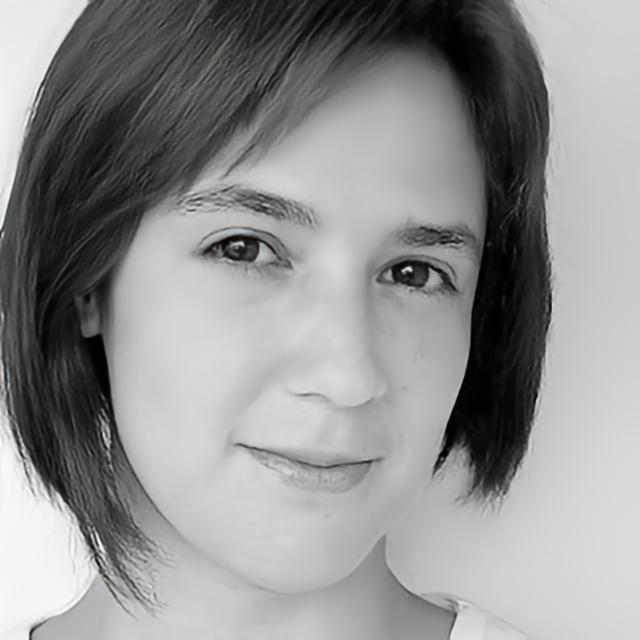content: (108, 48, 482, 590)
